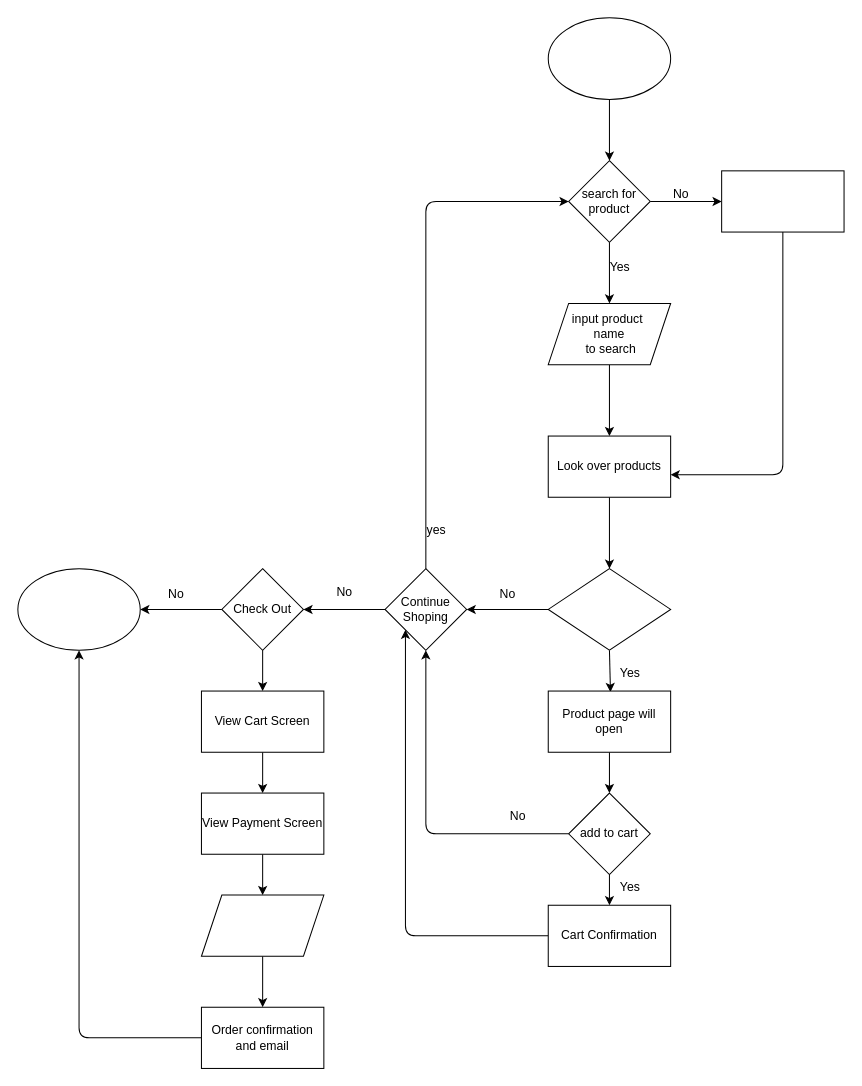
This 862x1086 diagram has some shape labels left out. The shapes that lost their labels are listed below. From the top down, each one's box as (x1, y1, x2, y2) in pixels, then its label:
(547, 17, 671, 99): User enters website
(721, 170, 844, 232): Explore Home Page
(17, 568, 140, 650): Leave Website
(547, 568, 671, 650): view specific product
(200, 894, 324, 956): Input payment information
